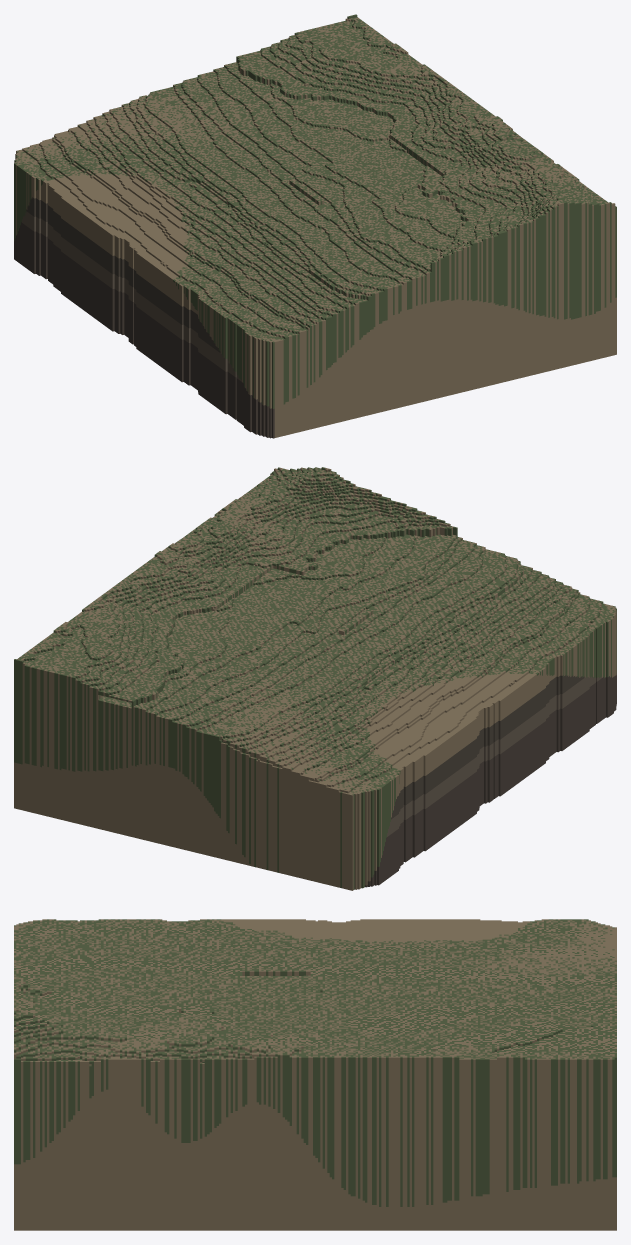
The model's file is Combined Desert(3)-12-tile 10 - above water 2.obj.
3 renders of one model, top to bottom at view 1: azimuth 30°, elevation 25°; view 2: azimuth 150°, elevation 25°; view 3: azimuth 270°, elevation 25°, orthographic. The views are drawn at different scales.
Parts seen in each view (by area): view 1: tile 10 - above water 2; view 2: tile 10 - above water 2; view 3: tile 10 - above water 2.
Boxes of the visible parts, x1,y1,x2,y2 form: tile 10 - above water 2: [14, 14, 616, 438]; tile 10 - above water 2: [14, 467, 616, 890]; tile 10 - above water 2: [14, 919, 616, 1230].
Size of the model in its own units: 20.1 by 8.9 by 25.6.
1 material, 1 textured.
